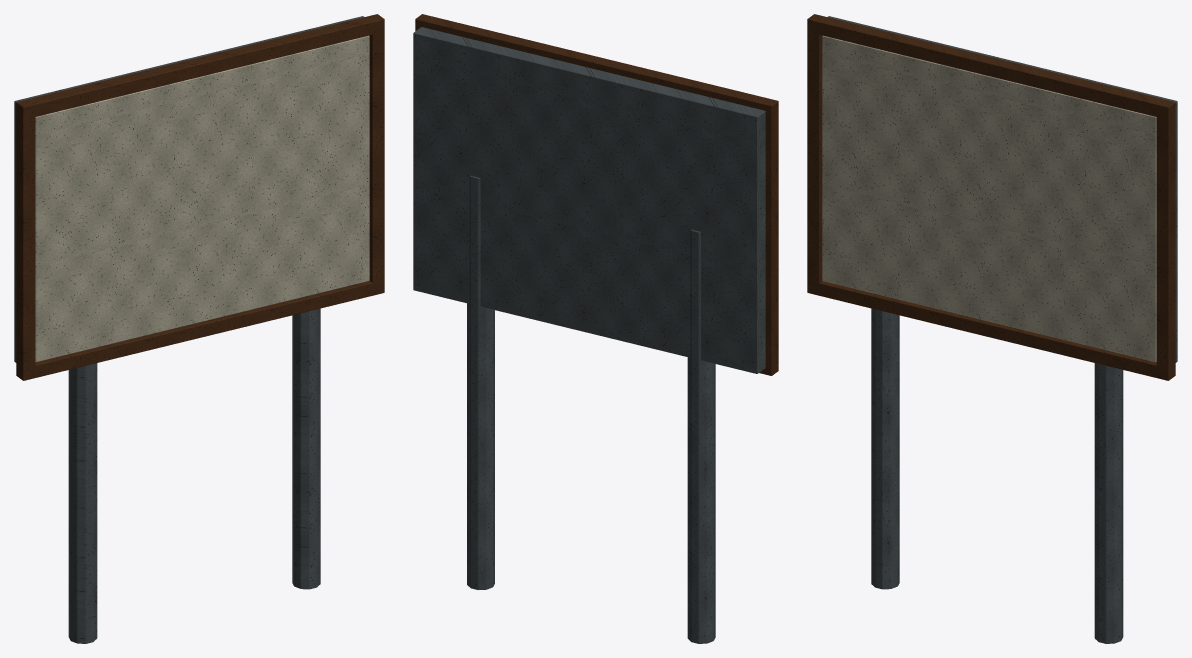
File: PROP-EF784F3F7403_lod1.glb
3 renders of one model, left to right at view 1: azimuth 30°, elevation 25°; view 2: azimuth 150°, elevation 25°; view 3: azimuth 330°, elevation 25°, orthographic.
Visible parts, largest first — view 1: painted_sign_face.010, frame.010, original_mountain_graphic.010, sign_support.010, panel_back.010; view 2: panel_back.010, sign_support.010, frame.010; view 3: painted_sign_face.010, frame.010, original_mountain_graphic.010, sign_support.010, panel_back.010.
Boxes of the visible parts, box(x1,y1,x2,y2) form: painted_sign_face.010: box(35, 35, 369, 362); frame.010: box(16, 14, 384, 380); original_mountain_graphic.010: box(54, 139, 352, 320); sign_support.010: box(68, 293, 320, 643); panel_back.010: box(14, 16, 364, 362); panel_back.010: box(413, 27, 765, 373); sign_support.010: box(467, 175, 715, 643); frame.010: box(415, 14, 778, 375); painted_sign_face.010: box(822, 35, 1156, 362); frame.010: box(807, 14, 1175, 380); original_mountain_graphic.010: box(839, 165, 1137, 320); sign_support.010: box(871, 293, 1123, 643); panel_back.010: box(827, 16, 1177, 362).
Size of the model in its own units: 2.9 by 4.25 by 0.2251.
Materials: 3 (3 with a texture image).
